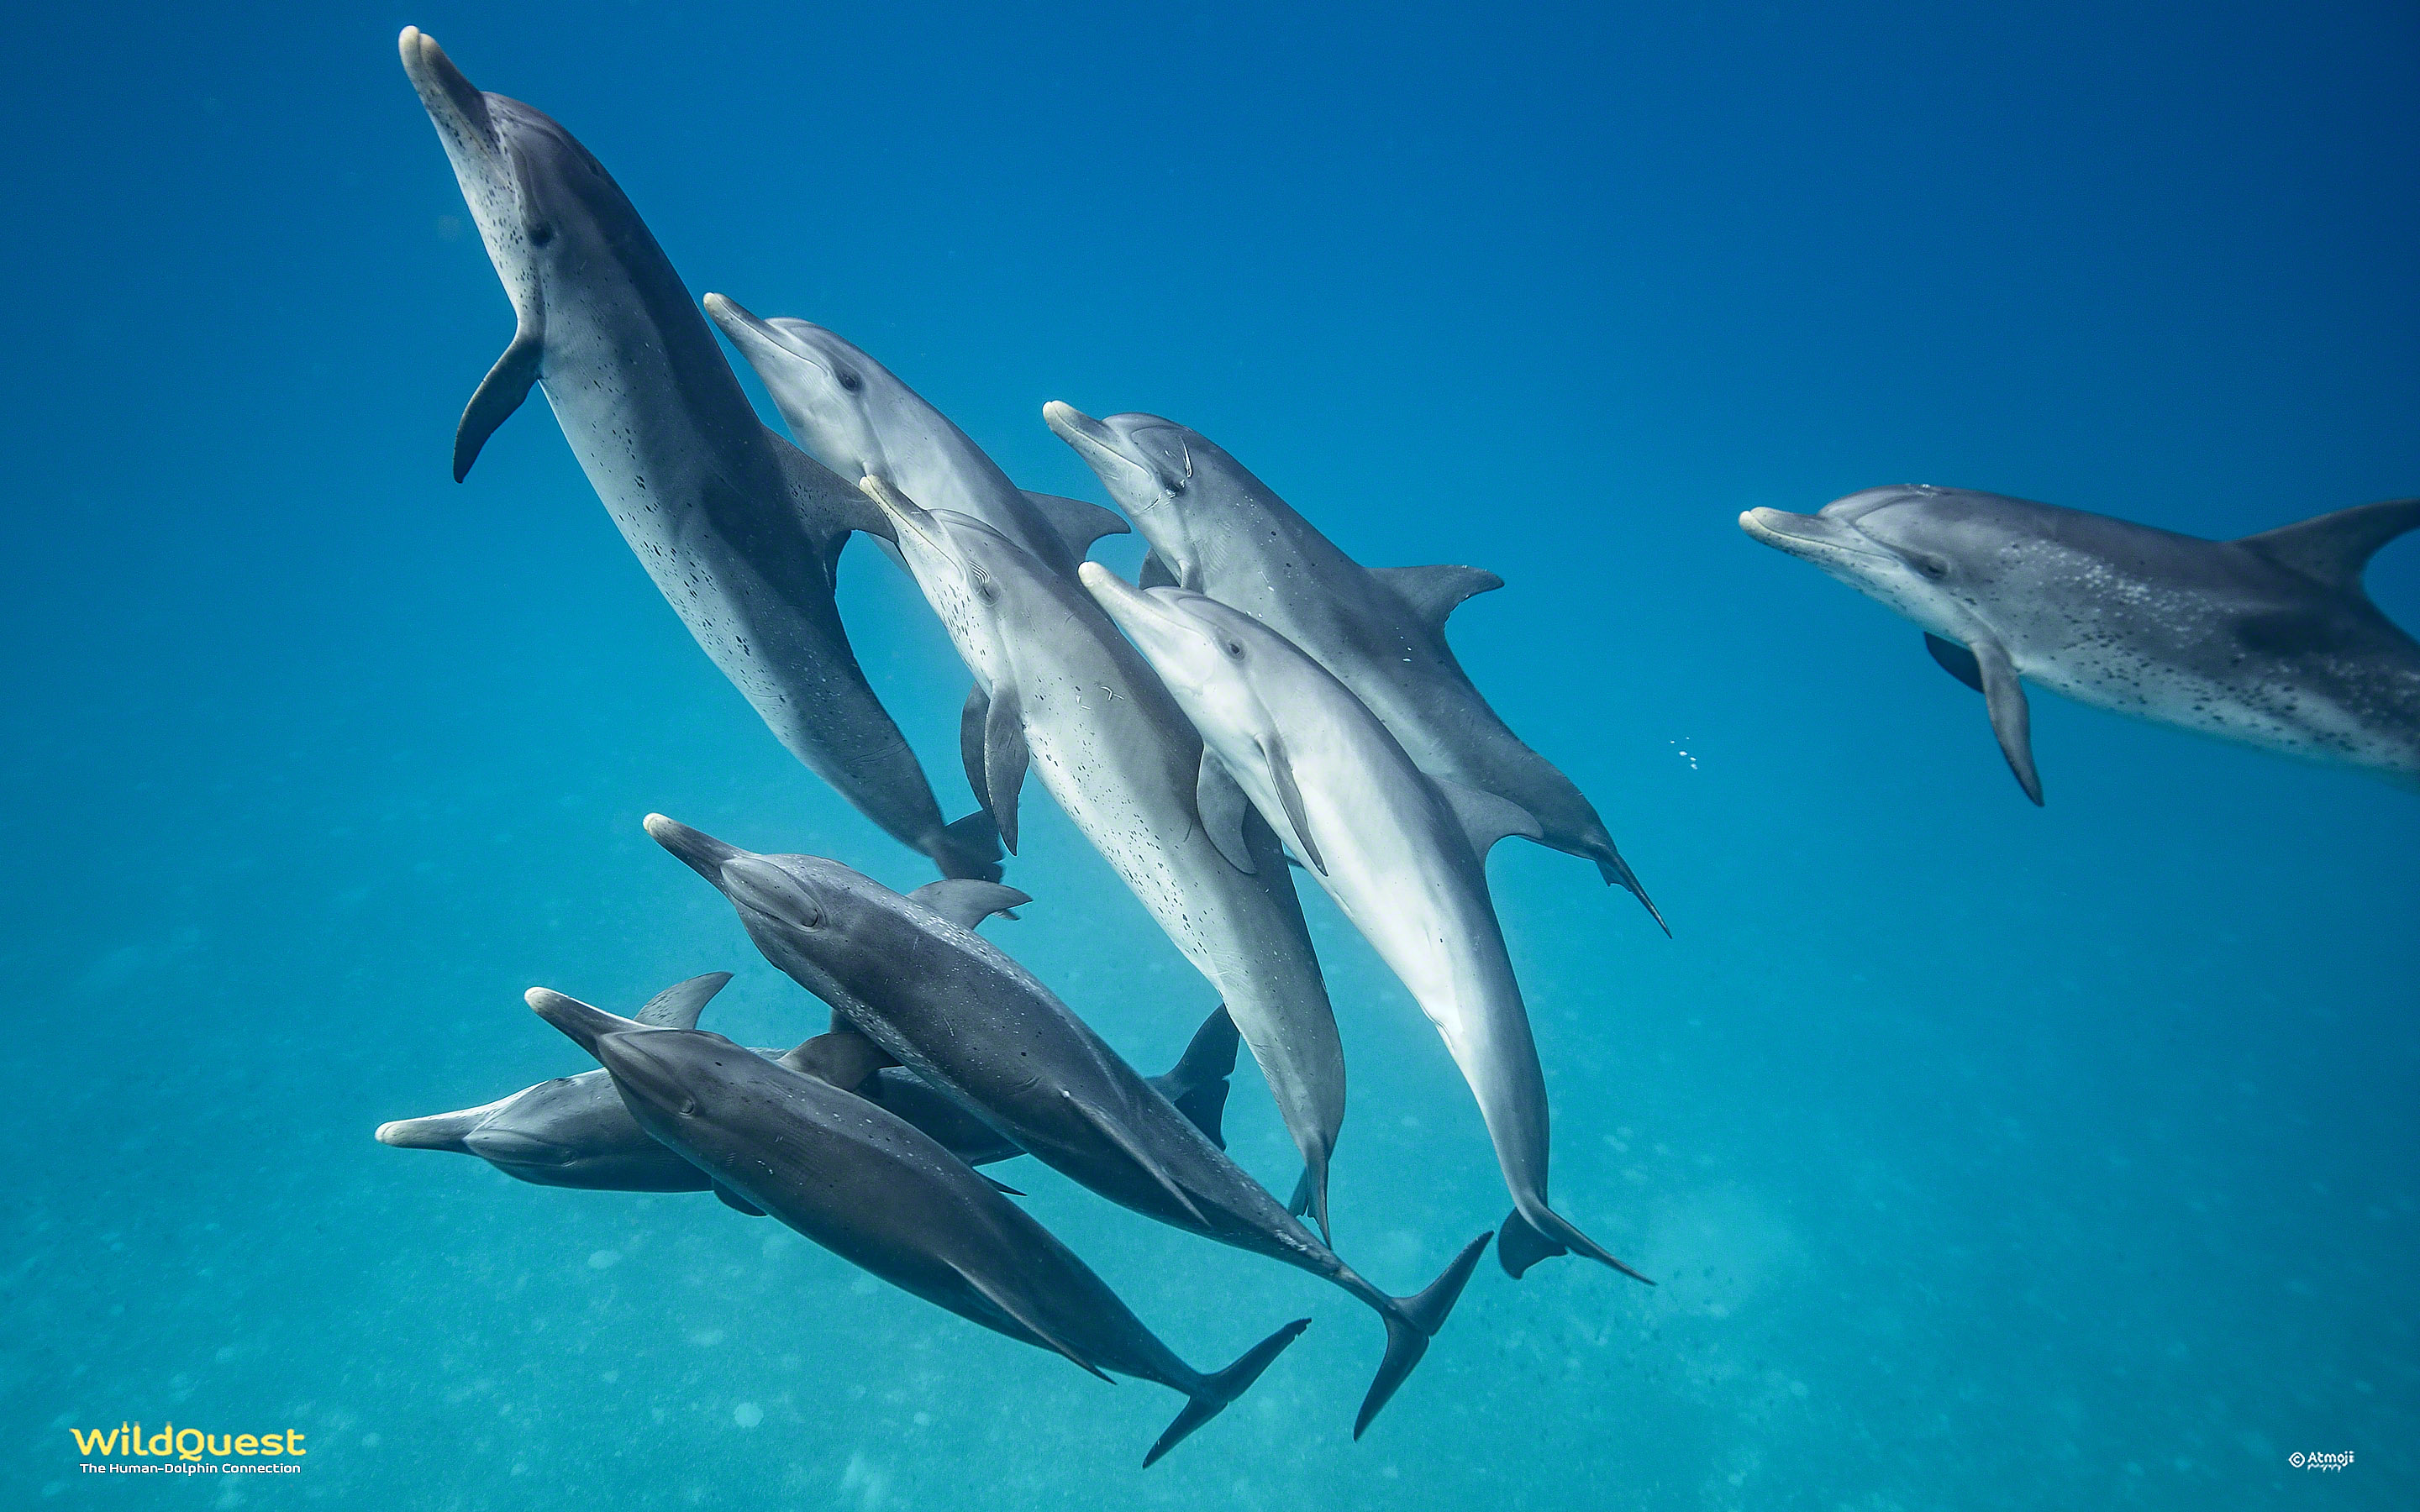dolphin: (542, 780, 1580, 1439), (697, 254, 1415, 1185), (312, 12, 1017, 894), (1023, 359, 1716, 1016), (1690, 381, 2420, 829)
